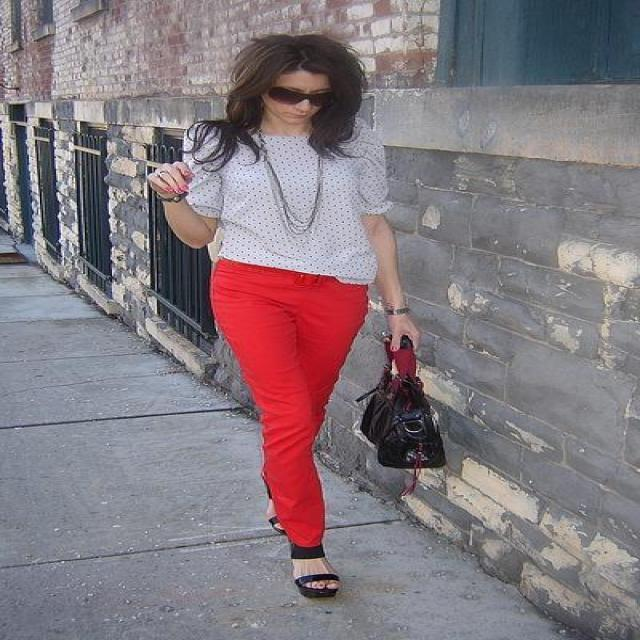bag: (360, 334, 445, 469)
pants: (210, 260, 368, 550)
shirt: (178, 130, 392, 284)
shoe: (291, 550, 338, 598)
